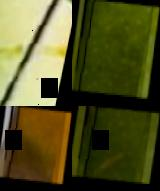Ripe: (1, 106, 66, 190)
Unripe: (72, 0, 154, 106), (0, 0, 72, 106), (75, 106, 153, 189)
